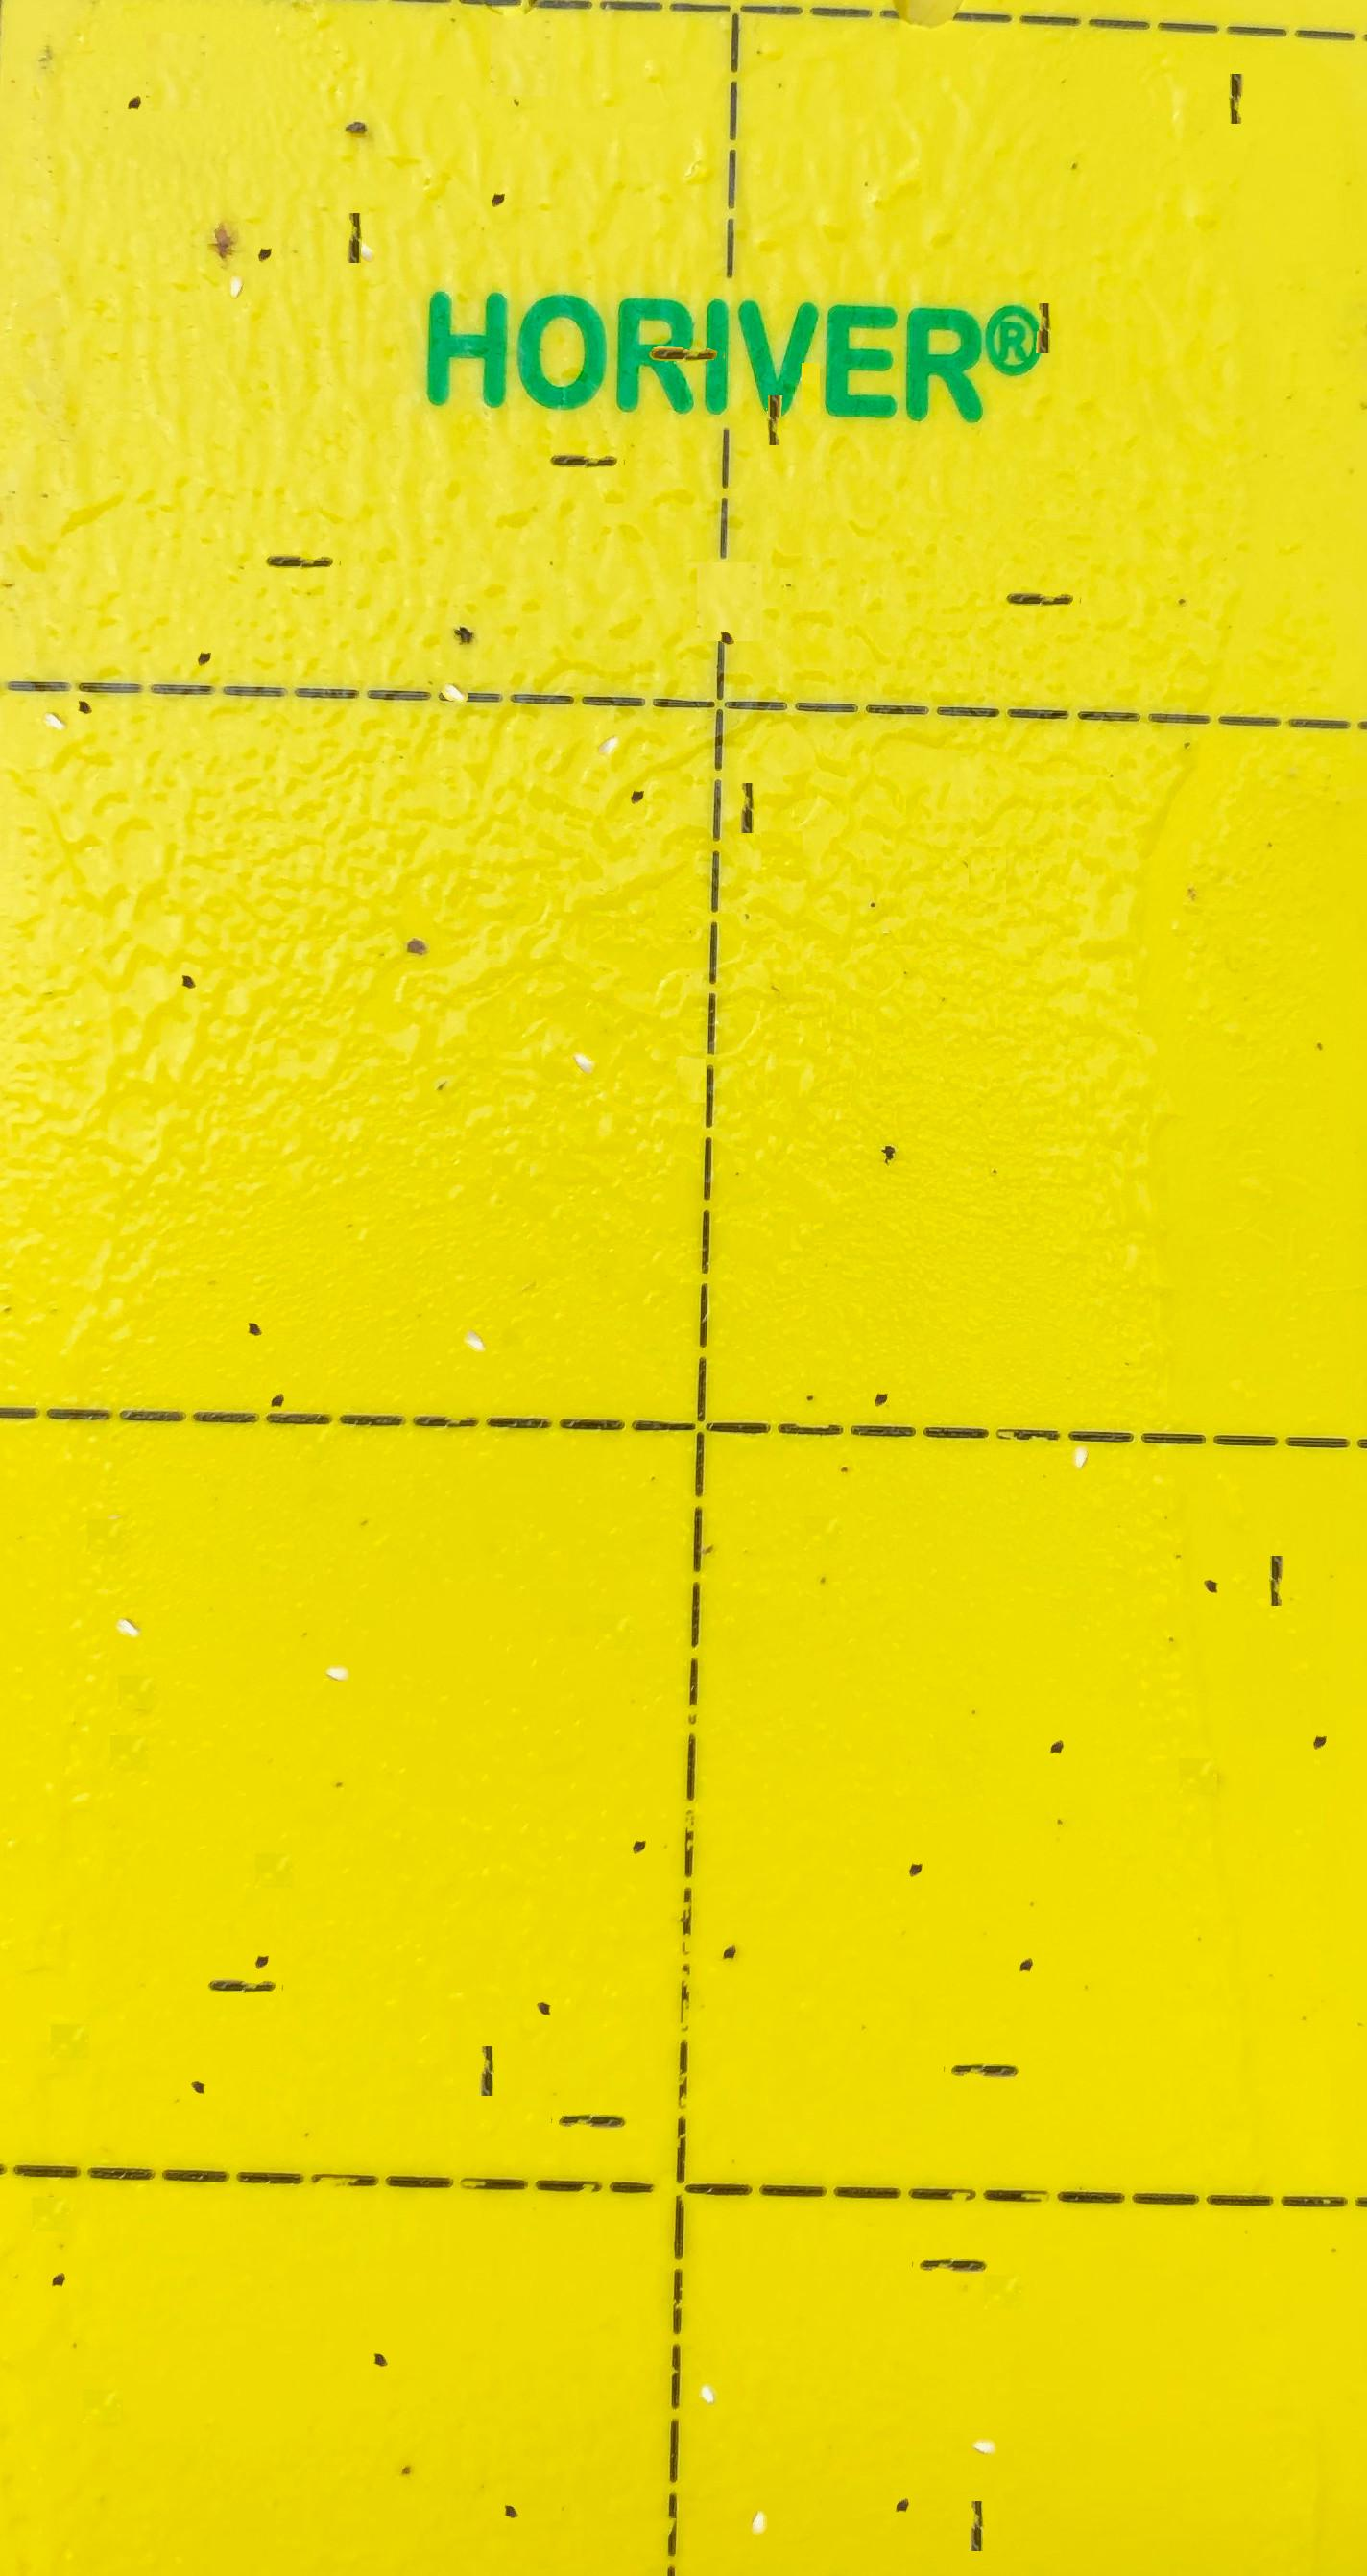white_fly: (687, 2322, 730, 2370), (104, 1562, 147, 1607), (431, 627, 474, 671), (31, 656, 73, 700), (344, 187, 387, 230), (453, 1276, 496, 1319), (564, 998, 605, 1043), (588, 683, 629, 726), (216, 230, 259, 267), (317, 1619, 360, 1656), (965, 2392, 1006, 2429), (736, 2467, 777, 2504), (1062, 1400, 1103, 1438)
